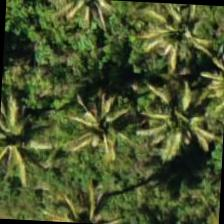Kelapa_Sawit: (44, 80, 140, 176), (125, 76, 220, 170), (134, 1, 223, 82), (0, 84, 60, 178), (33, 173, 127, 223)
